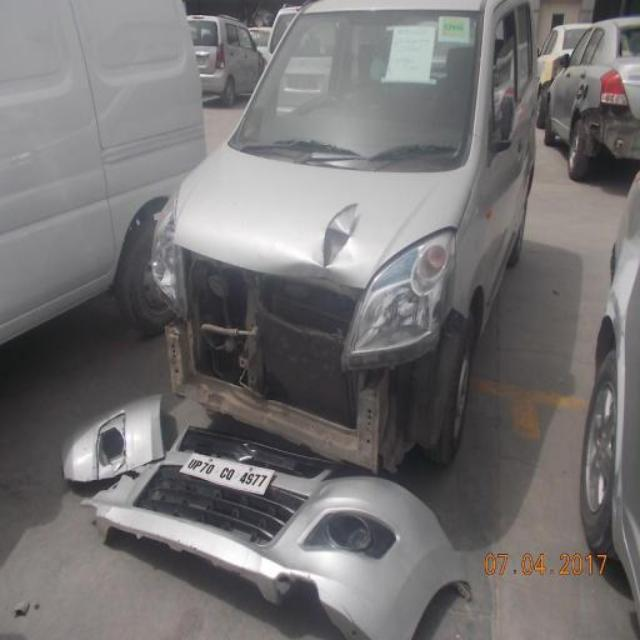crack: (313, 197, 367, 274)
no part: (156, 237, 456, 480)
